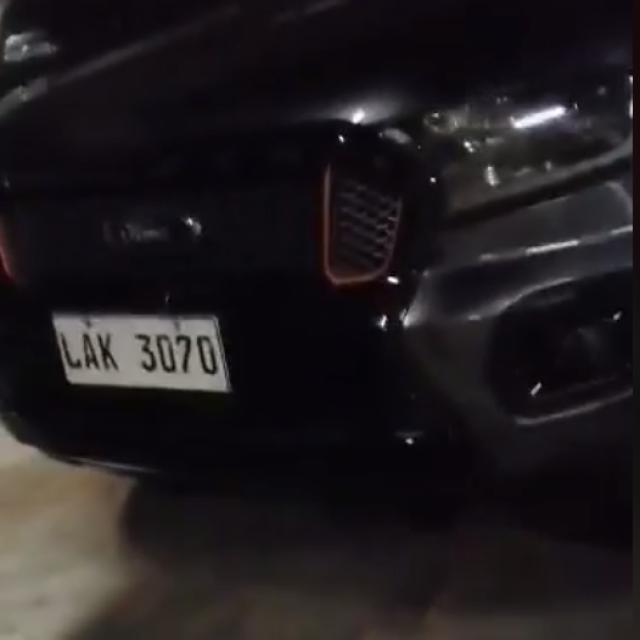license-plate: (50, 311, 234, 398)
